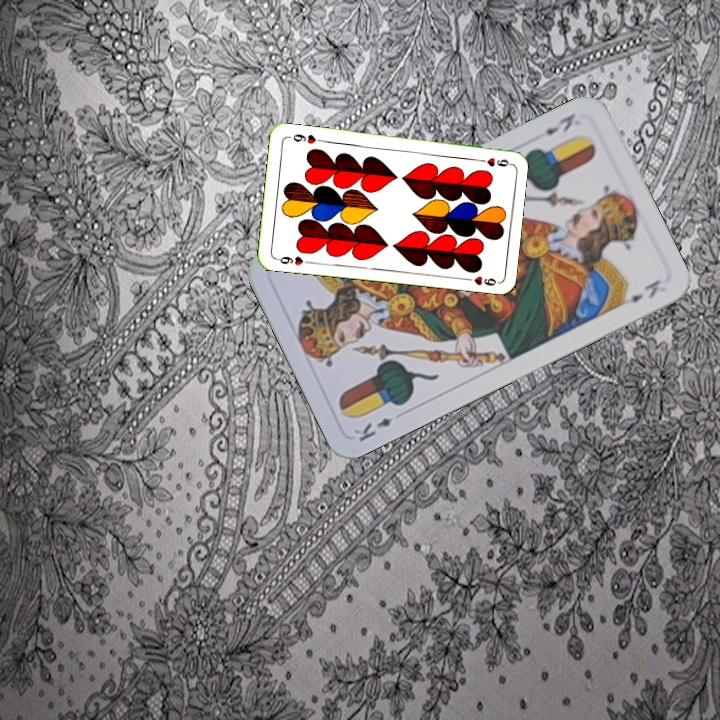EK: (349, 413, 395, 445), (540, 109, 578, 138)
H9: (471, 153, 512, 169), (272, 252, 312, 268)
